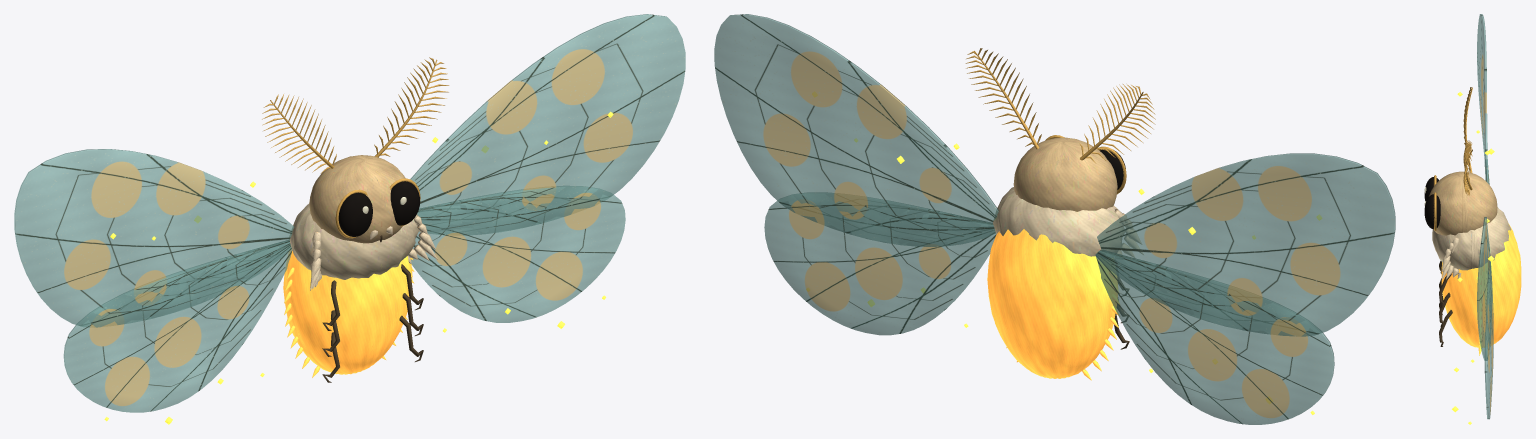
File: lantern_moth.glb
3 renders of one model, left to right at view 1: azimuth 30°, elevation 25°; view 2: azimuth 150°, elevation 25°; view 3: azimuth 270°, elevation 25°, orthographic. The views are drawn at different scales.
Parts seen in each view (by area): view 1: Upper right wing, Upper left wing, Lower left wing, Lower right wing, Amber lantern abdomen, Cream head, Fluffy cream collar, Right feathered antenna, Left feathered antenna, Gentle dark left eye, Closed cream collar fur locks, Gentle dark right eye; view 2: Upper left wing, Upper right wing, Lower left wing, Lower right wing, Amber lantern abdomen, Cream head, Fluffy cream collar, Left feathered antenna, Right feathered antenna; view 3: Amber lantern abdomen, Cream head, Fluffy cream collar, Upper right wing, Upper left wing, Lower right wing, Gentle dark right eye, Closed cream collar fur locks, Right feathered antenna, Left feathered antenna, Closed glowing abdomen fringe, Optional amber spirit motes (+5 smaller).
Part boxes in pixels (x1=…): Upper right wing: x1=410, y1=14, x2=685, y2=234; Upper left wing: x1=14, y1=149, x2=294, y2=327; Lower left wing: x1=63, y1=240, x2=292, y2=412; Lower right wing: x1=410, y1=186, x2=625, y2=322; Amber lantern abdomen: x1=283, y1=249, x2=412, y2=374; Cream head: x1=309, y1=155, x2=405, y2=243; Fluffy cream collar: x1=289, y1=203, x2=418, y2=279; Right feathered antenna: x1=374, y1=57, x2=449, y2=157; Left feathered antenna: x1=262, y1=94, x2=336, y2=173; Gentle dark left eye: x1=338, y1=192, x2=372, y2=236; Closed cream collar fur locks: x1=310, y1=214, x2=437, y2=290; Gentle dark right eye: x1=390, y1=181, x2=420, y2=225; Upper left wing: x1=1095, y1=153, x2=1395, y2=336; Upper right wing: x1=714, y1=14, x2=998, y2=246; Lower left wing: x1=1096, y1=250, x2=1334, y2=424; Lower right wing: x1=764, y1=193, x2=996, y2=335; Amber lantern abdomen: x1=987, y1=229, x2=1117, y2=378; Cream head: x1=1013, y1=137, x2=1117, y2=211; Fluffy cream collar: x1=993, y1=187, x2=1125, y2=256; Left feathered antenna: x1=1079, y1=84, x2=1155, y2=163; Right feathered antenna: x1=965, y1=48, x2=1041, y2=149; Amber lantern abdomen: x1=1441, y1=223, x2=1521, y2=347; Cream head: x1=1429, y1=171, x2=1497, y2=235; Fluffy cream collar: x1=1432, y1=207, x2=1510, y2=270; Upper right wing: x1=1477, y1=217, x2=1491, y2=360; Upper left wing: x1=1477, y1=14, x2=1489, y2=184; Lower right wing: x1=1484, y1=260, x2=1493, y2=419; Gentle dark right eye: x1=1424, y1=194, x2=1440, y2=229; Closed cream collar fur locks: x1=1441, y1=237, x2=1461, y2=279; Right feathered antenna: x1=1463, y1=140, x2=1472, y2=195; Left feathered antenna: x1=1463, y1=87, x2=1472, y2=173; Closed glowing abdomen fringe: x1=1478, y1=275, x2=1481, y2=355; Optional amber spirit motes: x1=1452, y1=92, x2=1494, y2=424.
Size of the model in its own units: 0.3043 by 0.1301 by 0.0499.
6 materials, 6 textured.
